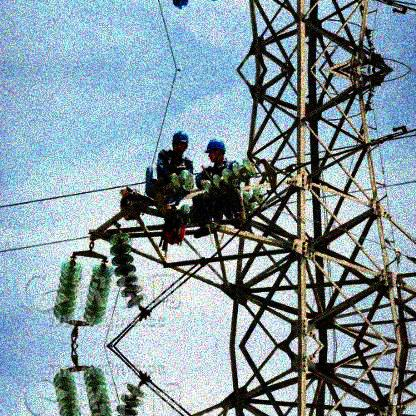helmet: (203, 138, 226, 162), (171, 130, 189, 154)
